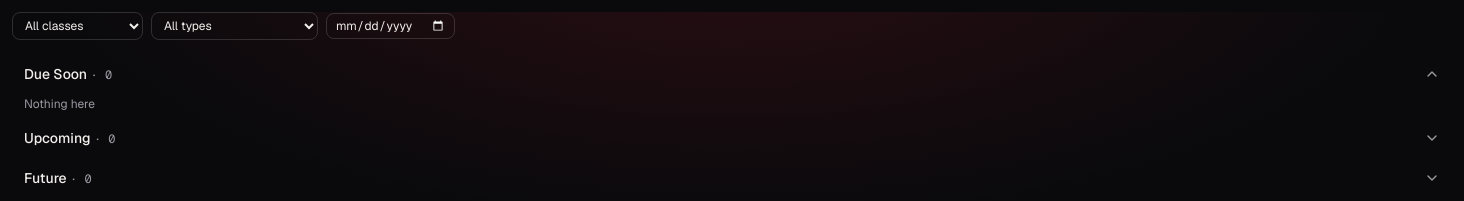
Scenario: TaskListModule › shows a Deselect filters button only once a filter is active, and it clears all three
Expected: the button "Deselect filters" is not shown
Select "PHYS-2326-002" in the dropdown named "Filter by class" at (78, 26), box [12, 12, 143, 40]
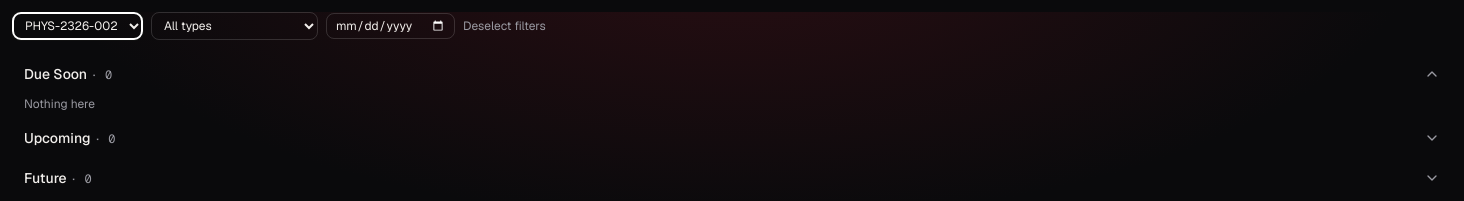
Now the button "Deselect filters" is shown
Click the button "Deselect filters" at (504, 26), box [463, 18, 546, 34]
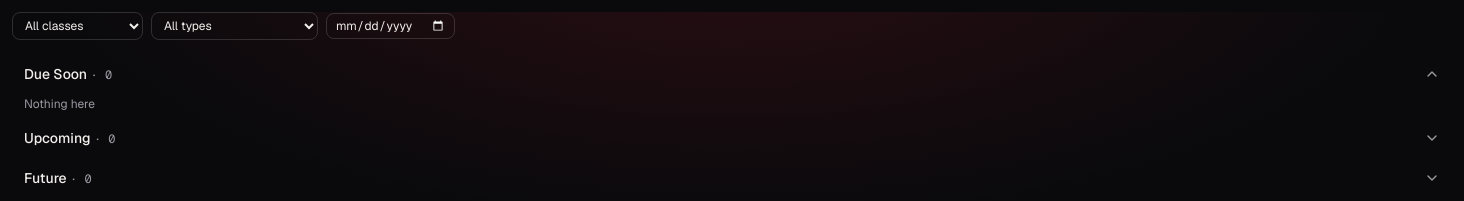
Now the button "Deselect filters" is gone
